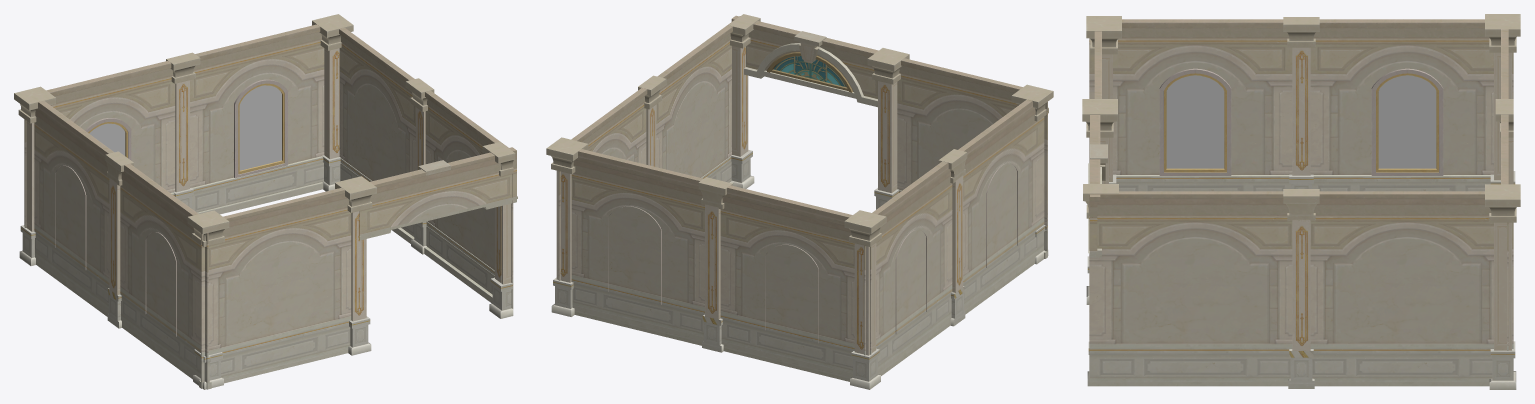
File: Homeworld_Interior_Fd_Room_J_Wall_01_Vo.fbx
The picture shows the model from 3 angles, left to right: view 1: azimuth 30°, elevation 25°; view 2: azimuth 150°, elevation 25°; view 3: azimuth 270°, elevation 25°; orthographic projection. The views are drawn at different scales.
Parts seen in each view (by area): view 1: Homeworld_Interior_Fd_Room_Wall_01_Vo (×3), Homeworld_Interior_Fd_Room_Wall_02_Vo (×4), Homeworld_Interior_Fd_Room_J_Filling_01_Vo, Homeworld_Interior_Fd_Room_Pillar_01_Vo (×4), Homeworld_Interior_Fd_Room_Pillar_02_Vo (×4), Homeworld_Interior_Fd_Room_Door_02_Vo; view 2: Homeworld_Interior_Fd_Room_J_Filling_01_Vo, Homeworld_Interior_Fd_Room_Wall_01_Vo (×3), Homeworld_Interior_Fd_Room_Pillar_01_Vo (×4), Homeworld_Interior_Fd_Room_Pillar_02_Vo (×4), Homeworld_Interior_Fd_Room_Door_02_Vo, Homeworld_Interior_Fd_Room_Wall_02_Vo (×4); view 3: Homeworld_Interior_Fd_Room_Wall_01_Vo (×3), Homeworld_Interior_Fd_Room_Wall_02_Vo (×4), Homeworld_Interior_Fd_Room_Pillar_01_Vo (×4), Homeworld_Interior_Fd_Room_Pillar_02_Vo (×4), Homeworld_Interior_Fd_Room_Door_02_Vo.
Boxes of the visible parts, box(x1,y1,x2,y2) form: Homeworld_Interior_Fd_Room_Wall_01_Vo (×3): box(199, 27, 513, 388); Homeworld_Interior_Fd_Room_Wall_02_Vo (×4): box(24, 24, 324, 389); Homeworld_Interior_Fd_Room_J_Filling_01_Vo: box(34, 103, 501, 379); Homeworld_Interior_Fd_Room_Pillar_01_Vo (×4): box(14, 14, 376, 389); Homeworld_Interior_Fd_Room_Pillar_02_Vo (×4): box(105, 52, 515, 328); Homeworld_Interior_Fd_Room_Door_02_Vo: box(359, 147, 517, 240); Homeworld_Interior_Fd_Room_J_Filling_01_Vo: box(571, 102, 1044, 381); Homeworld_Interior_Fd_Room_Wall_01_Vo (×3): box(558, 16, 1047, 280); Homeworld_Interior_Fd_Room_Pillar_01_Vo (×4): box(546, 48, 1053, 389); Homeworld_Interior_Fd_Room_Pillar_02_Vo (×4): box(638, 14, 967, 352); Homeworld_Interior_Fd_Room_Door_02_Vo: box(731, 15, 878, 107); Homeworld_Interior_Fd_Room_Wall_02_Vo (×4): box(578, 99, 1032, 355); Homeworld_Interior_Fd_Room_Wall_01_Vo (×3): box(1089, 31, 1513, 386); Homeworld_Interior_Fd_Room_Wall_02_Vo (×4): box(1089, 19, 1513, 350); Homeworld_Interior_Fd_Room_Pillar_01_Vo (×4): box(1082, 14, 1520, 389); Homeworld_Interior_Fd_Room_Pillar_02_Vo (×4): box(1083, 17, 1513, 388); Homeworld_Interior_Fd_Room_Door_02_Vo: box(1088, 115, 1107, 257).
Size of what is drawn, in the model's own units: 10.35 by 5.02 by 10.34.
